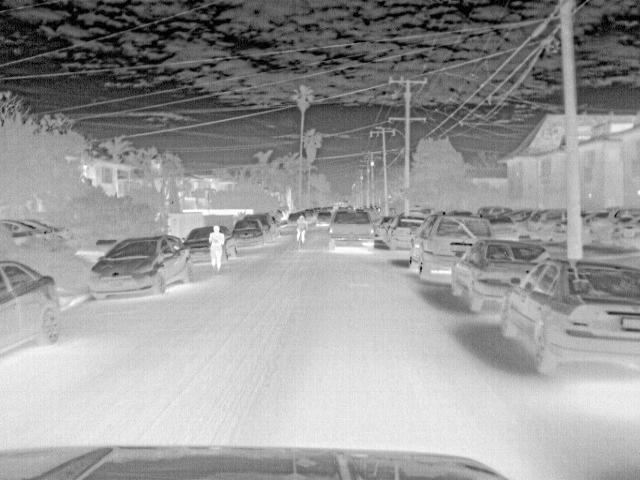car: (499, 258, 638, 384), (445, 240, 547, 316), (85, 233, 191, 303), (0, 260, 66, 356), (403, 213, 494, 282), (326, 205, 375, 255), (384, 215, 431, 257), (228, 215, 268, 251), (527, 205, 567, 240), (0, 218, 49, 246), (20, 218, 71, 243), (181, 227, 212, 267), (486, 212, 519, 240), (245, 212, 278, 240), (617, 216, 638, 248), (546, 218, 566, 244), (315, 210, 333, 227), (303, 207, 317, 225), (286, 212, 303, 226)
person: (205, 224, 227, 270), (295, 214, 307, 248)
